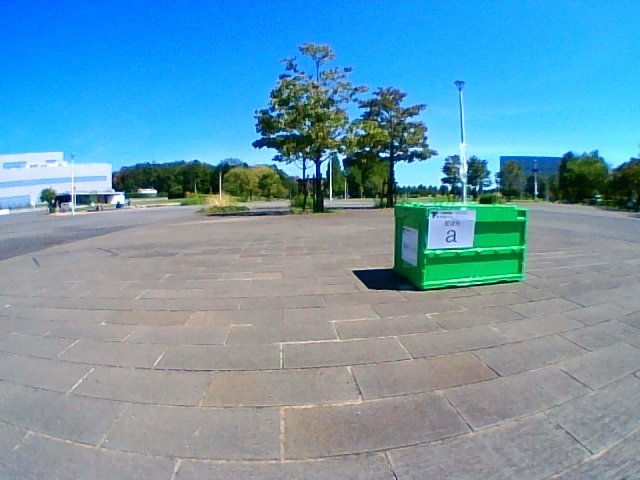green_box: (396, 204, 526, 289)
tag_a: (431, 212, 473, 247)
